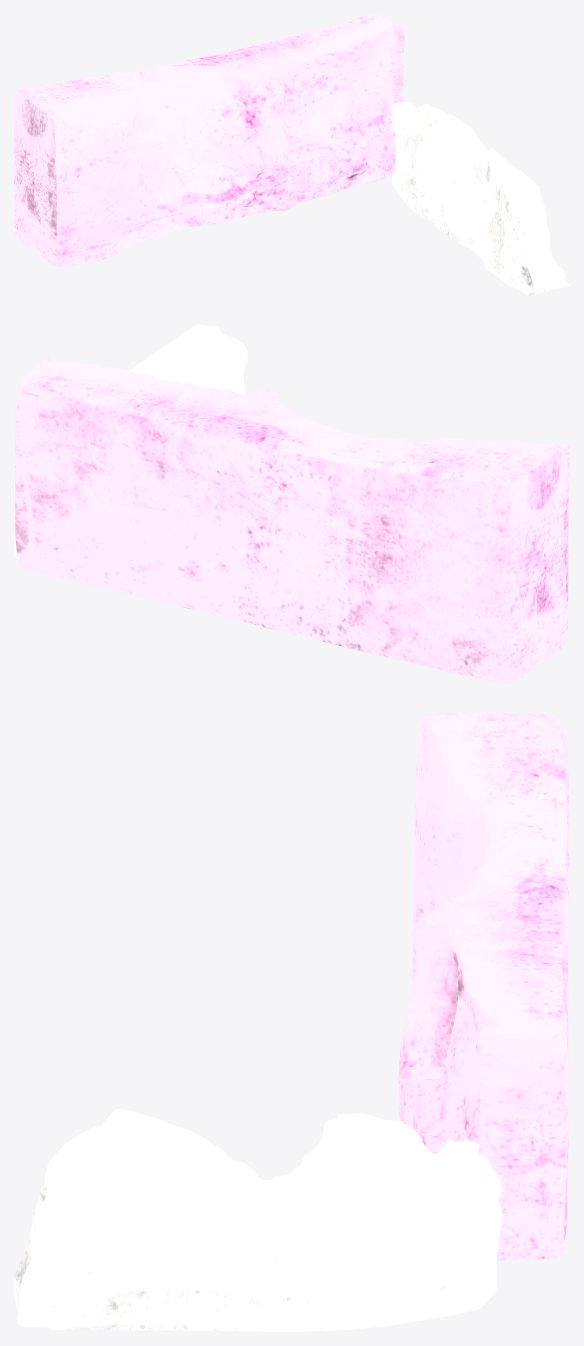
The model's file is MAIN_HOLE SUPPORT_BLICKS.FBX.
3 views of the same model, one above another, from view 1: azimuth 30°, elevation 25°; view 2: azimuth 150°, elevation 25°; view 3: azimuth 270°, elevation 25° (orthographic). The views are drawn at different scales.
Visible parts, largest first — view 1: Object036, Object035; view 2: Object036, Object035; view 3: Object035, Object036.
Part boxes in pixels (x1,y1,x2,y2): Object036: (14, 14, 404, 267); Object035: (391, 101, 569, 295); Object036: (14, 355, 569, 683); Object035: (14, 324, 248, 557); Object035: (14, 1109, 502, 1331); Object036: (398, 712, 569, 1260).
Size of the model in its own units: 3.21 by 1.34 by 2.28.
